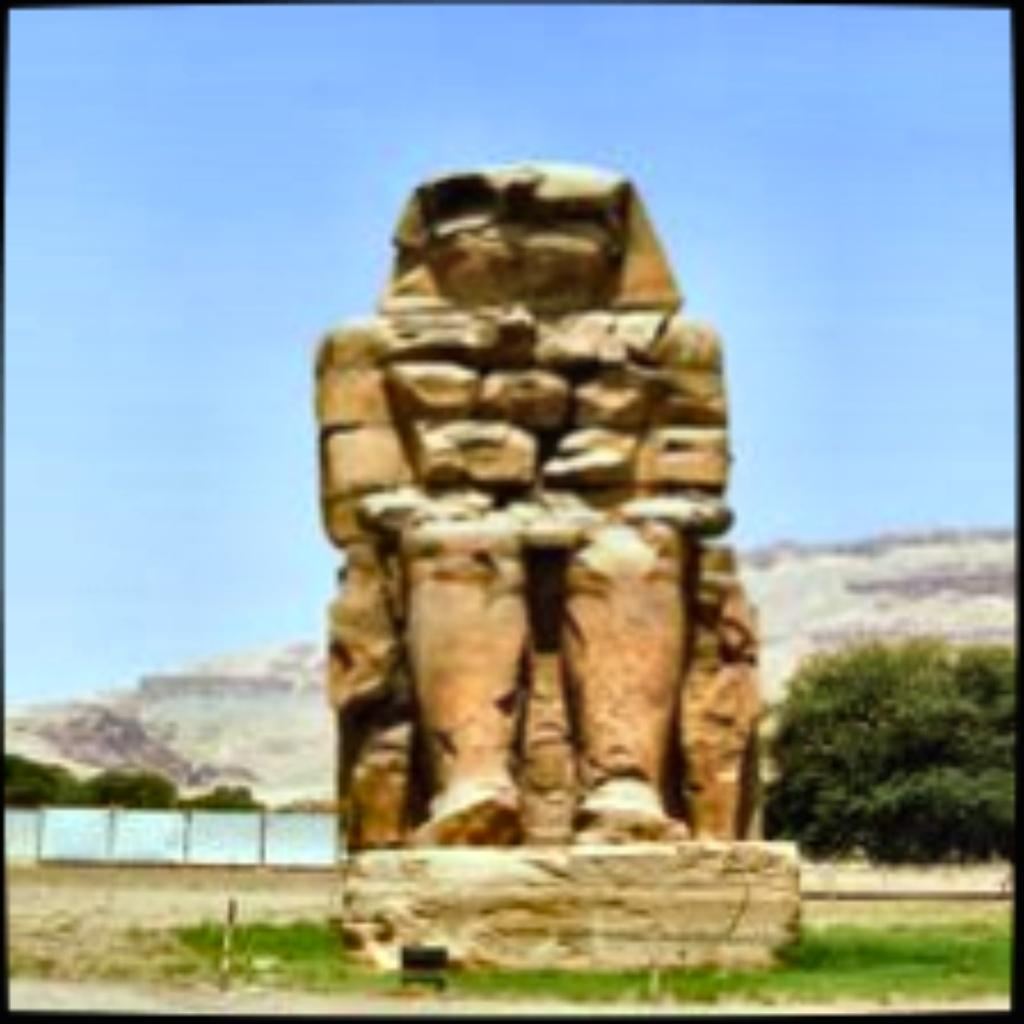Colossoi of Memnon: (302, 151, 804, 969)
